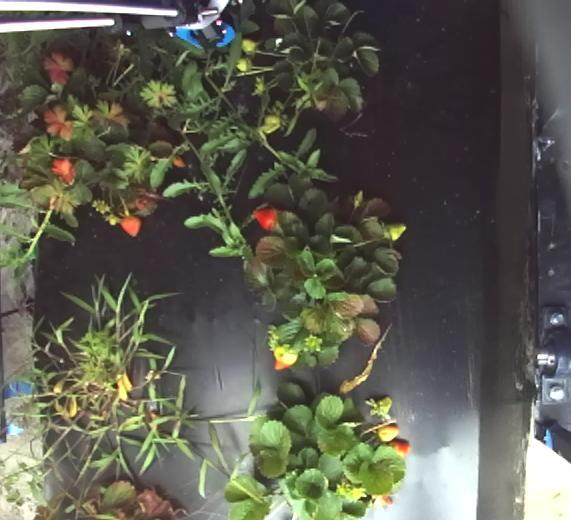mature: (251, 204, 278, 231), (118, 214, 141, 237), (392, 443, 413, 458)
